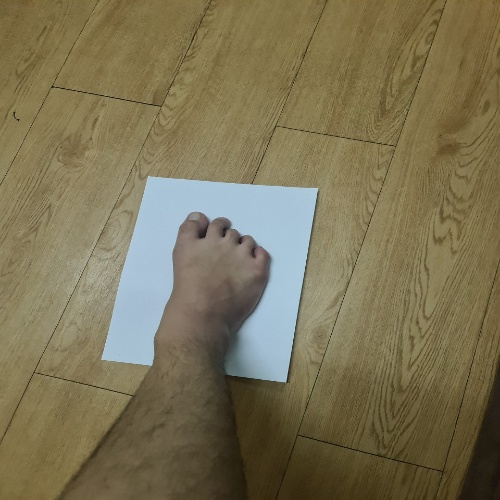Top_Foot: (82, 162, 341, 393)
